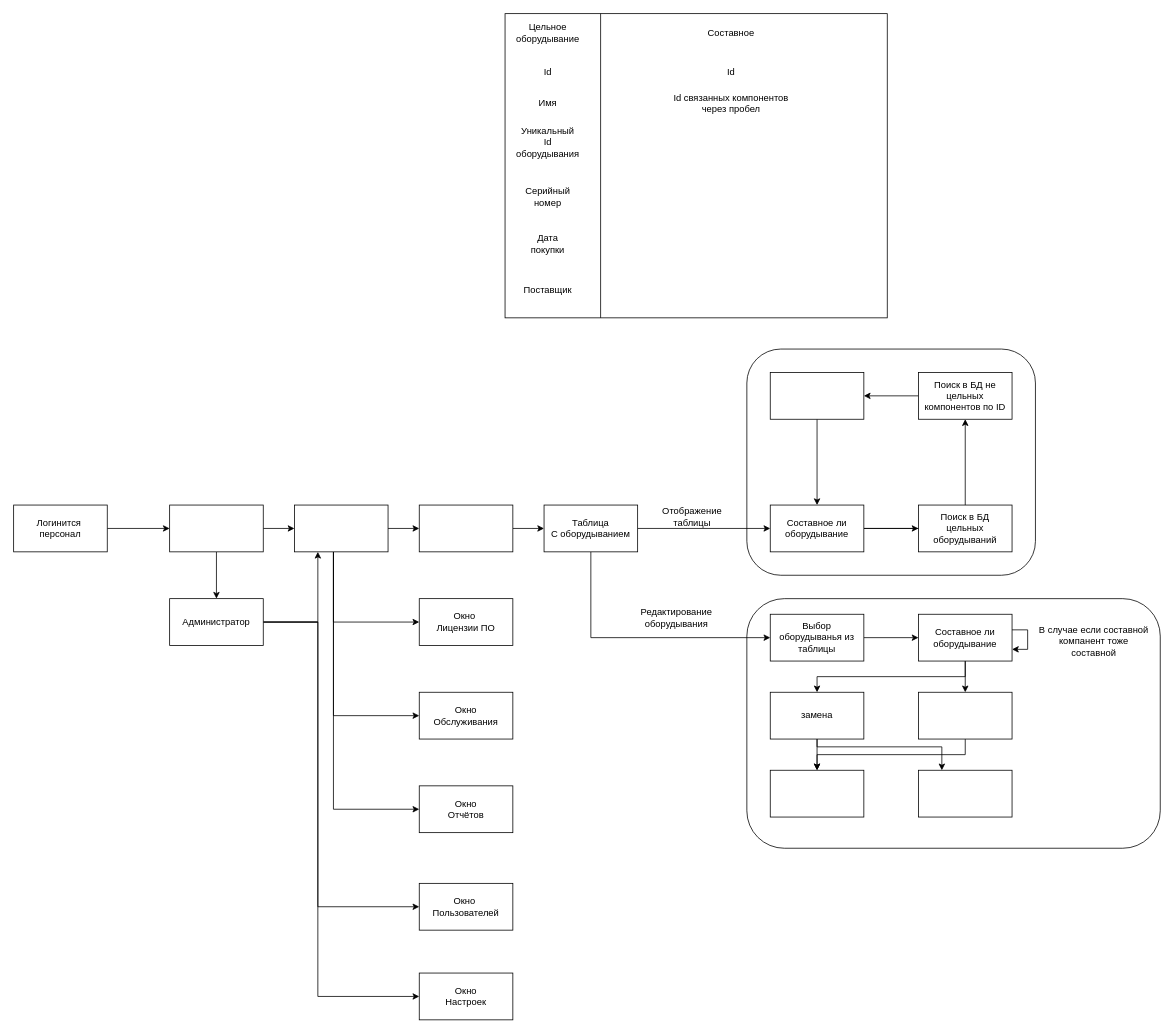
Image size: 1174x1034. Some labels were removed from this diagram. The shapes that lost their labels are listed below. From the top down, each one's centre as x and y in pixels, then its label:
(816,395): Повторение этого этапа
(216,528): Окно Home
(341,528): Обычный пользователь
(465,528): Окно Оборудывание
(965,715): перемещение
(816,793): куда ушёл компонент
(965,793): замена на что?
